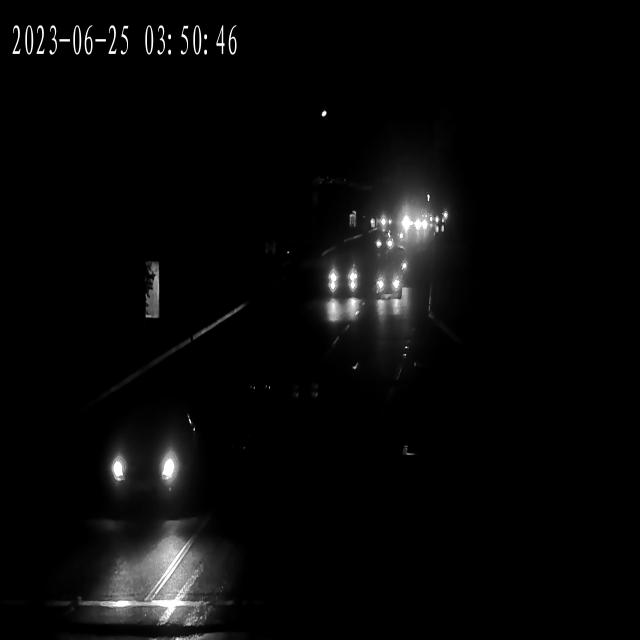Car: (94, 407, 198, 518), (325, 258, 360, 299), (373, 265, 403, 301), (372, 233, 402, 254), (396, 214, 424, 234), (370, 229, 394, 251), (380, 229, 405, 250), (402, 215, 428, 234), (371, 233, 394, 254), (372, 214, 395, 229), (424, 214, 445, 229), (429, 214, 449, 229), (368, 215, 389, 229), (427, 216, 446, 230), (431, 217, 449, 231)
